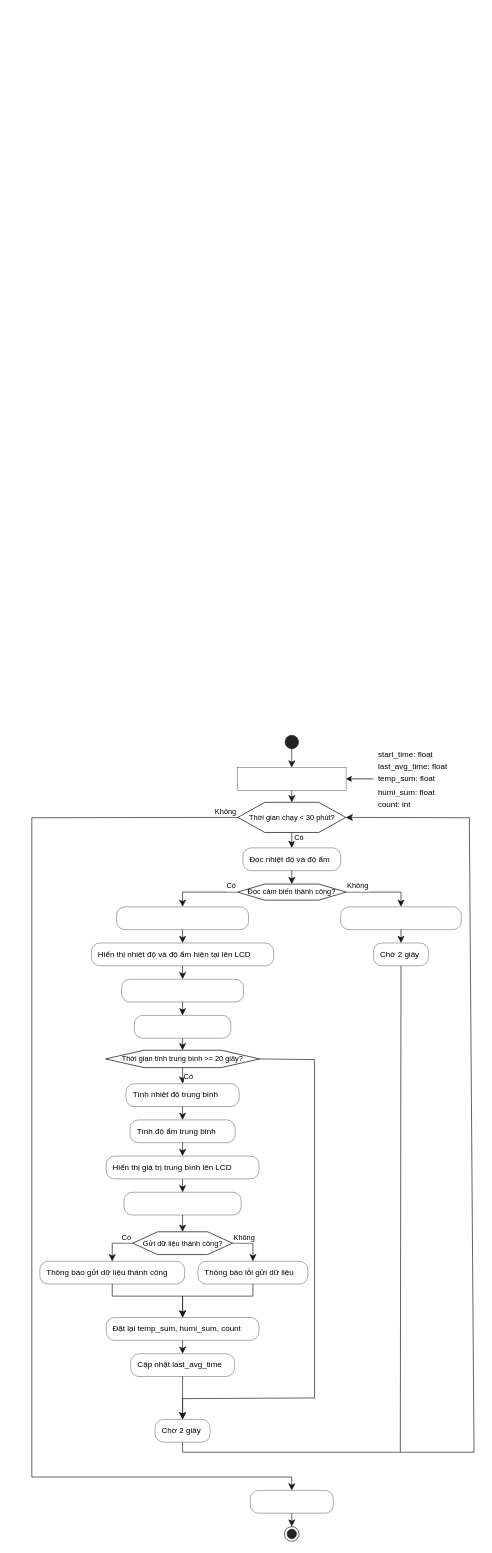
Some shapes in this 492 by 1553 pixel diagram are drawn without their labels. Each missing label, with the box of its shape:
Chuyển dữ liệu sang kiểu float: (116, 906, 248, 929)
Cộng dồn nhiệt độ và độ ẩm: (121, 979, 243, 1002)
Gửi dữ liệu lên ThingSpeak: (123, 1192, 241, 1215)
Khởi tạo biến và thiết bị: (237, 767, 346, 790)
Thông báo lỗi đọc cảm biến: (340, 906, 461, 929)
Tăng biến đếm count: (134, 1015, 231, 1038)
Xóa nội dung LCD: (250, 1490, 333, 1513)
